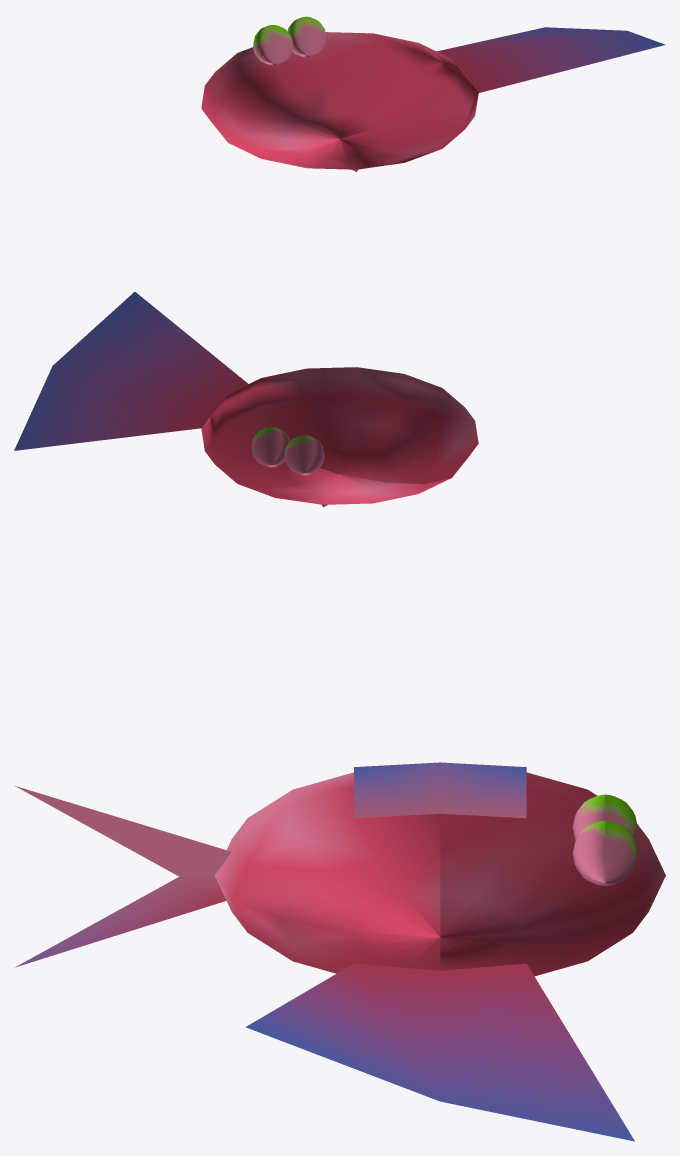
Rendered from skippy.glb.
3 renders of one model, top to bottom at view 1: azimuth 30°, elevation 25°; view 2: azimuth 150°, elevation 25°; view 3: azimuth 270°, elevation 25°, orthographic. The views are drawn at different scales.
Parts seen in each view (by area): view 1: Skippy; view 2: Skippy; view 3: Skippy.
Boxes of the visible parts, bbox=[...] form: Skippy: bbox=[201, 16, 665, 171]; Skippy: bbox=[14, 292, 478, 507]; Skippy: bbox=[14, 762, 665, 1141].
Size of the model in its own units: 1.9 by 0.4182 by 1.16.
